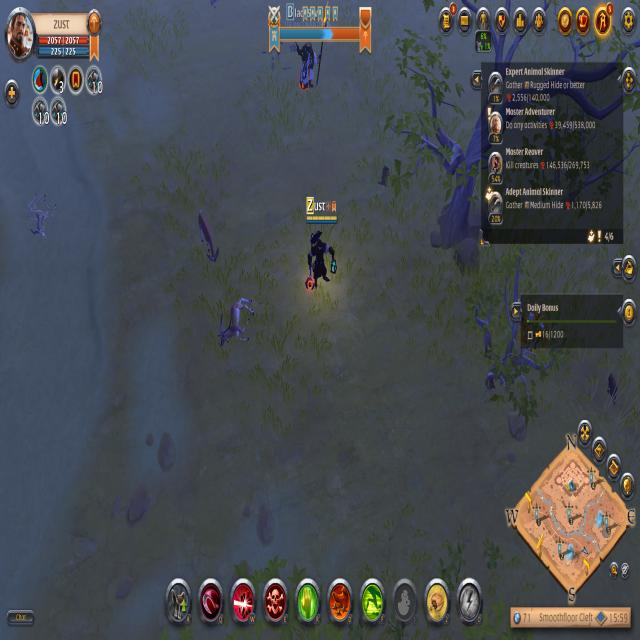deer_alive: (191, 204, 227, 279)
deer_dead: (217, 296, 259, 351)
